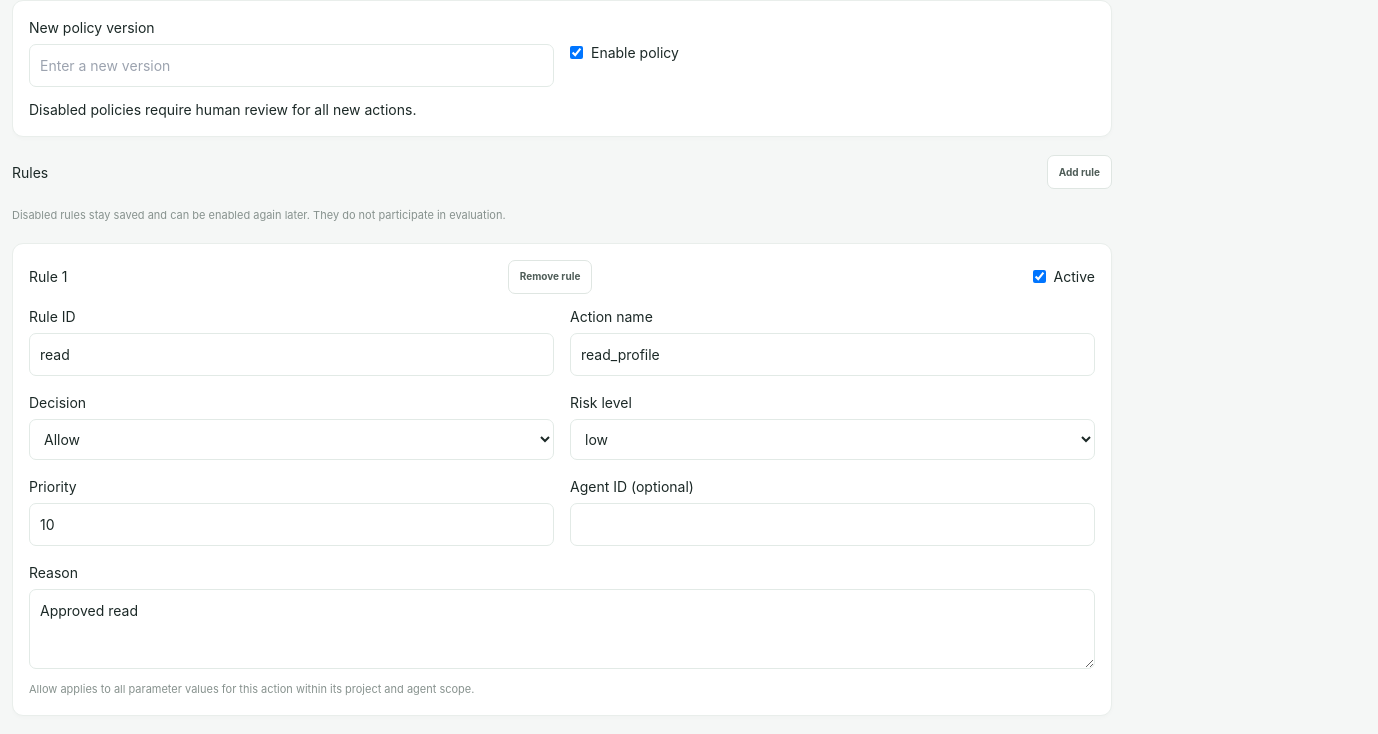
Test: switching projects discards the old draft and requests the new project
This screenshot has width=1378, height=734.
(page scrolled)
Expected: the field showing "read_profile" is shown, [570,333,1095,376]
Replace the text in the text box labelled "Reason" with "Project A draft" at coordinates (562, 629), box [29,589,1095,669]
(page scrolled)
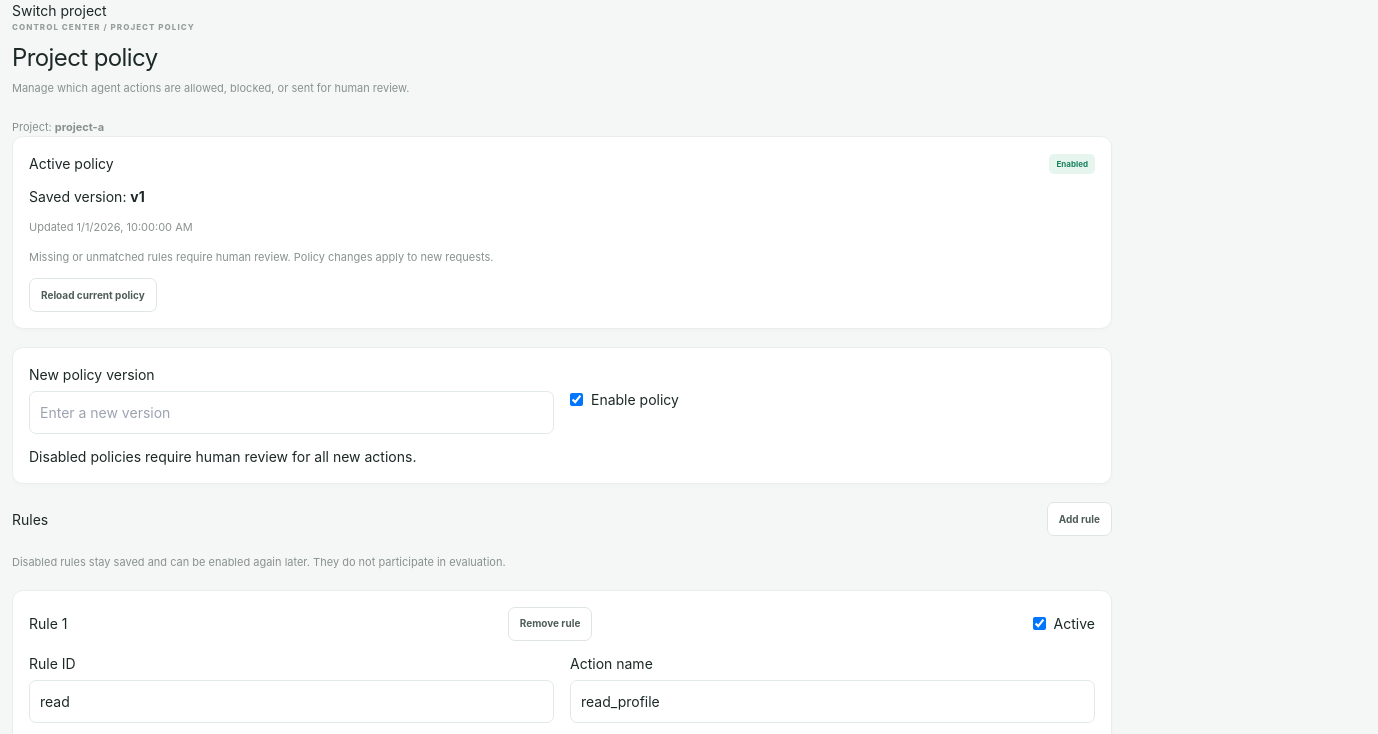
Click the link "Switch project" at coordinates (59, 10), box [12,2,107,19]
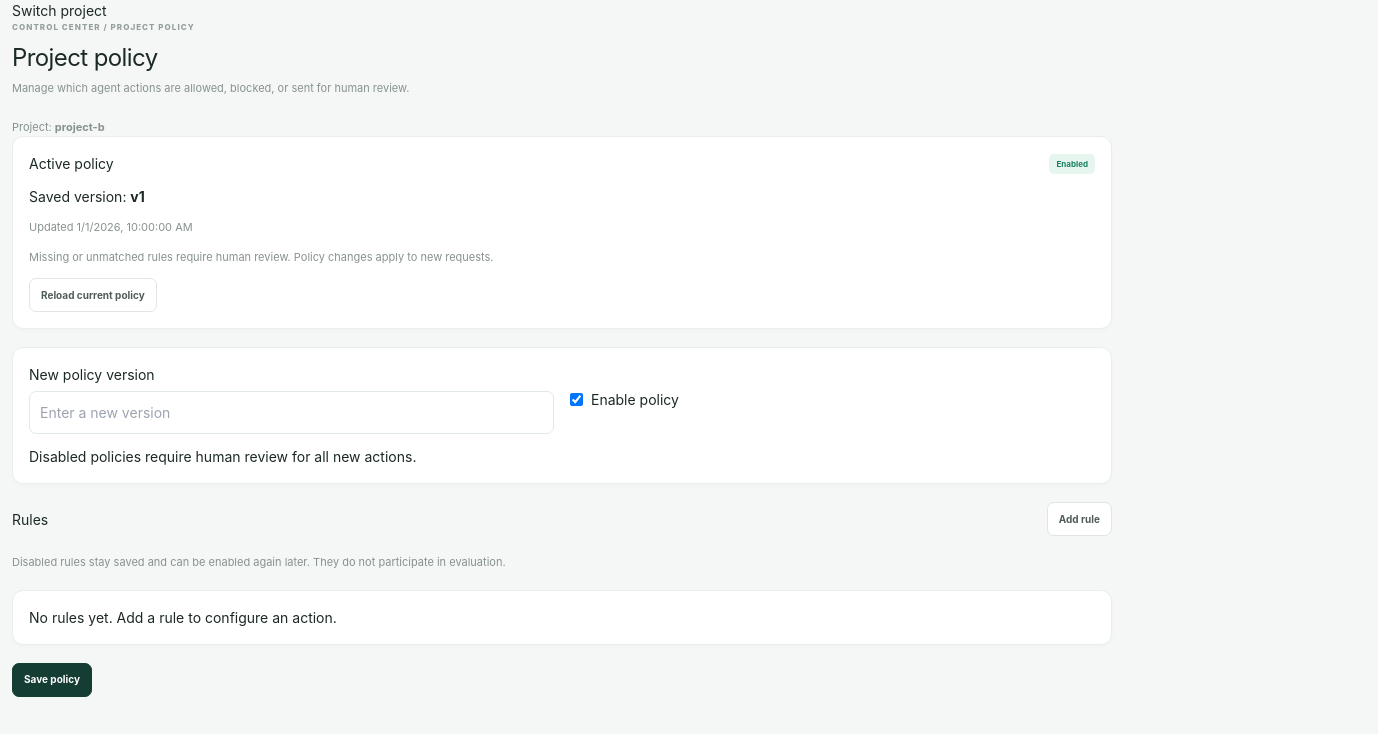
Expected: the text "No rules yet. Add a rule to configure an action." is shown, [12,590,1112,645]
